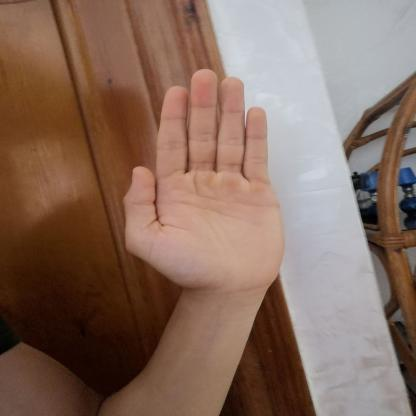SEEN: (111, 58, 303, 303)
